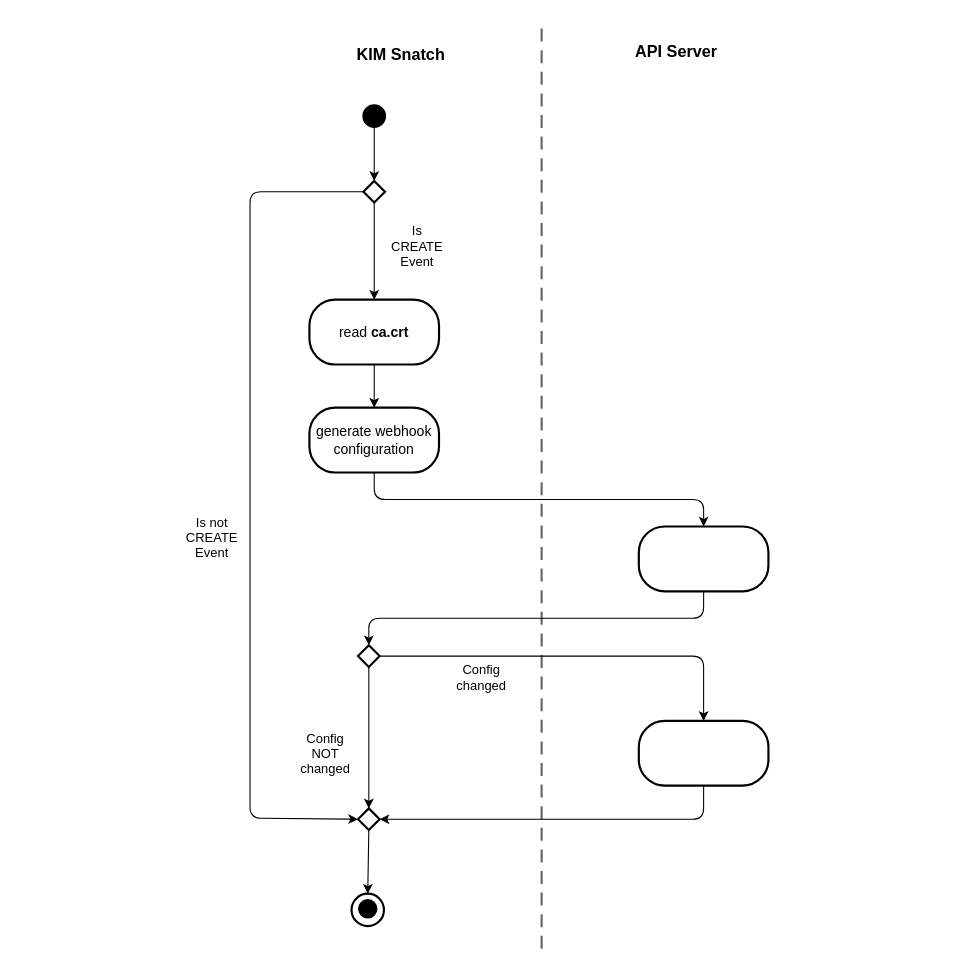
The diagram is 961 pixels wide and 976 high, and some of its shapes have lost their labels. The box of each missing label's shape, as (x1, y1, x2, y2) in pixels:
Get current webhook configuration: (637, 525, 769, 592)
Update webhook configuration: (637, 719, 769, 786)
